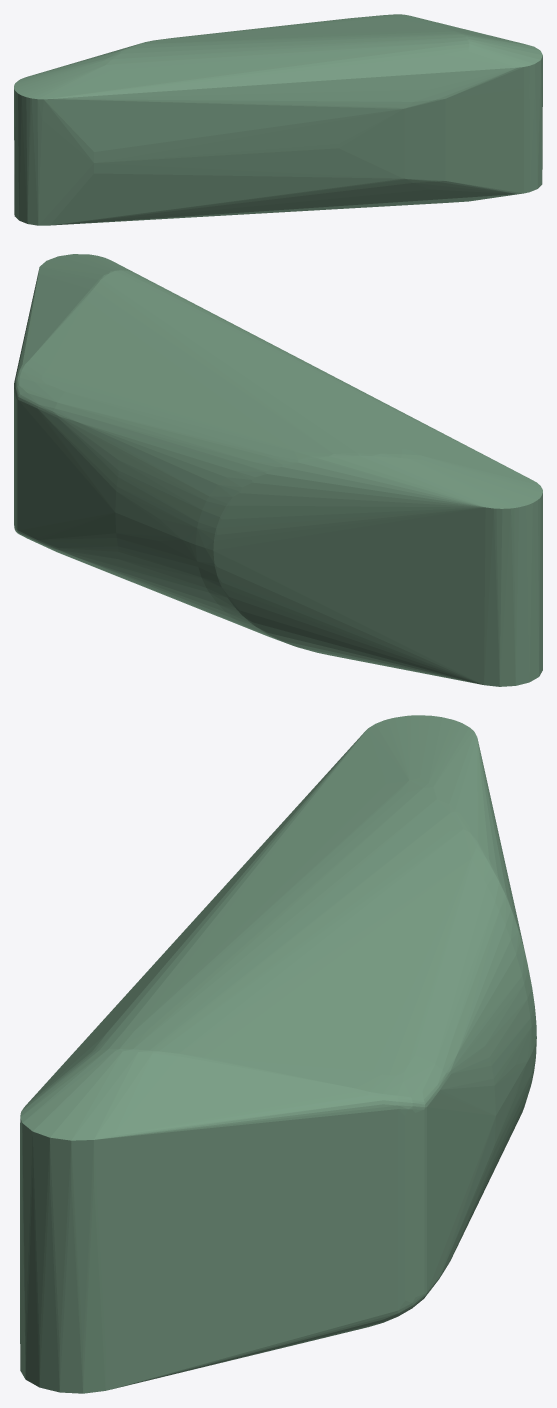
3 views of the same model, one above another, from view 1: azimuth 30°, elevation 25°; view 2: azimuth 150°, elevation 25°; view 3: azimuth 270°, elevation 25° (orthographic). The views are drawn at different scales.
Visible parts, largest first — view 1: geometry_0; view 2: geometry_0; view 3: geometry_0.
Part boxes in pixels (x1=…): geometry_0: x1=14, y1=14, x2=542, y2=225; geometry_0: x1=14, y1=254, x2=542, y2=686; geometry_0: x1=20, y1=715, x2=536, y2=1393.
Bounding box in the file's own units: 0.0433 × 0.0151 × 0.0222.
